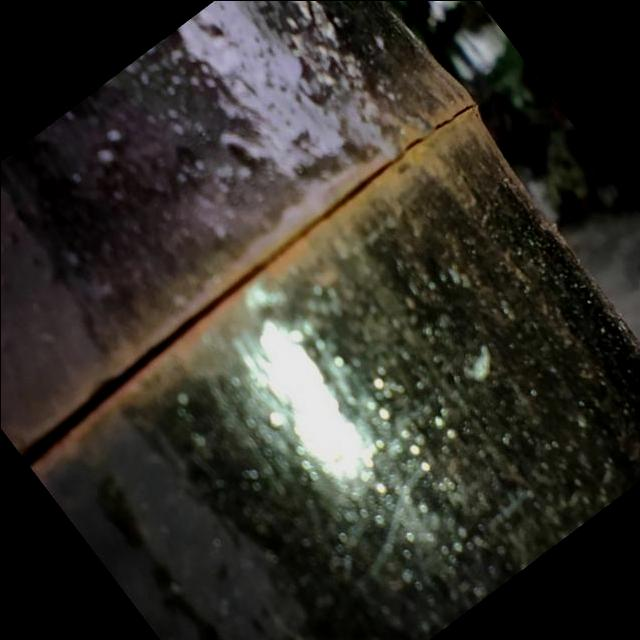defect: (18, 100, 480, 471)
